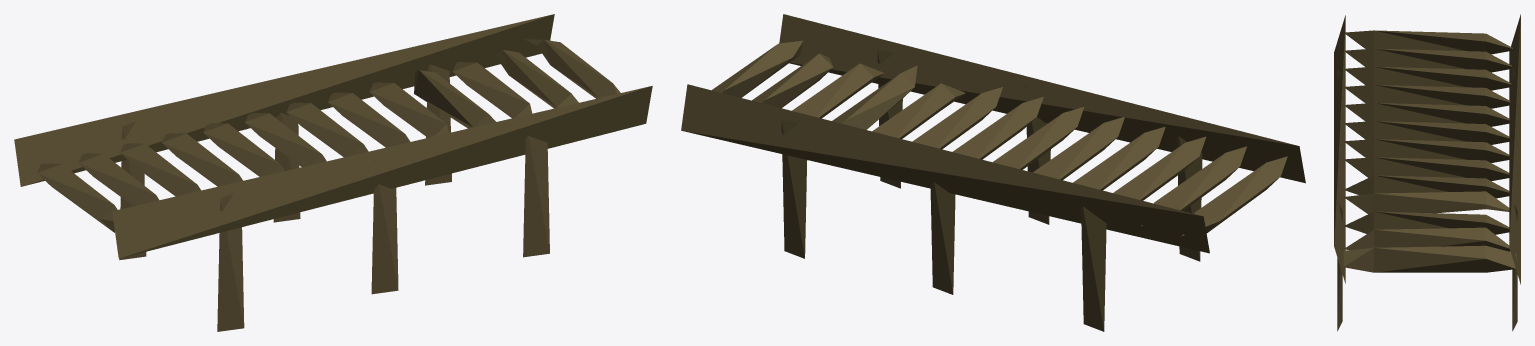
File: ew-roller.lod1.glb
3 views of the same model, side by side, from view 1: azimuth 30°, elevation 25°; view 2: azimuth 150°, elevation 25°; view 3: azimuth 270°, elevation 25° (orthographic). The views are drawn at different scales.
Parts seen in each view (by area): view 1: Conveyor_roller_1:Conveyor_roller_1_lambert1_0; view 2: Conveyor_roller_1:Conveyor_roller_1_lambert1_0; view 3: Conveyor_roller_1:Conveyor_roller_1_lambert1_0.
Boxes of the visible parts, x1=… form: Conveyor_roller_1:Conveyor_roller_1_lambert1_0: x1=14, y1=14, x2=652, y2=331; Conveyor_roller_1:Conveyor_roller_1_lambert1_0: x1=681, y1=14, x2=1305, y2=331; Conveyor_roller_1:Conveyor_roller_1_lambert1_0: x1=1334, y1=14, x2=1520, y2=331.
Bounding box in the file's own units: 3 × 0.7765 × 1.02.
